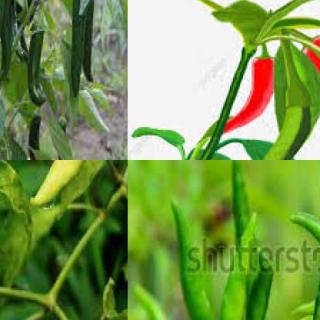green_chilli: (168, 200, 215, 319), (237, 102, 317, 160), (217, 214, 259, 319), (28, 160, 108, 212), (286, 208, 319, 320), (132, 283, 186, 319), (308, 160, 320, 319), (244, 269, 276, 319), (70, 0, 86, 98), (230, 160, 248, 245), (29, 27, 46, 110), (0, 0, 17, 78), (83, 1, 94, 81), (0, 0, 6, 124)
